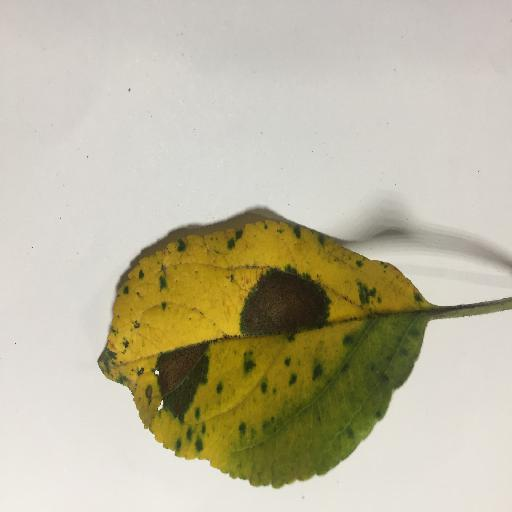Brown_Spot: (237, 277, 329, 324), (157, 346, 206, 402)
